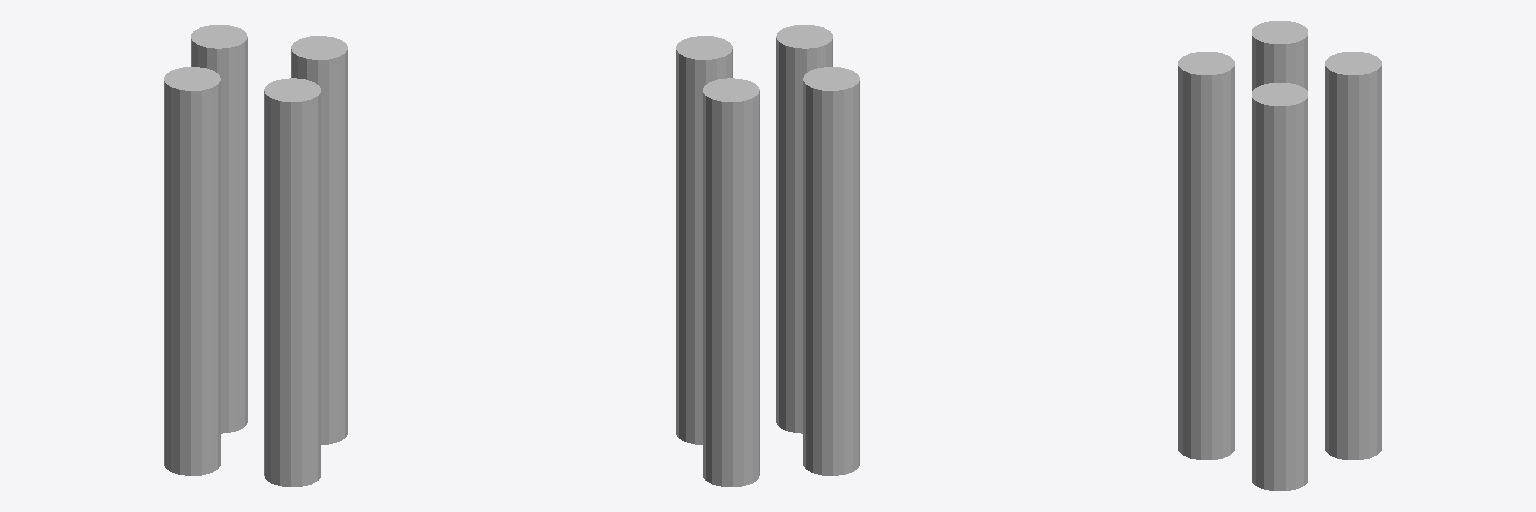
The model's file is fissionReactor_middle.obj.
3 renders of one model, left to right at view 1: azimuth 30°, elevation 25°; view 2: azimuth 150°, elevation 25°; view 3: azimuth 270°, elevation 25°, orthographic.
Visible parts, largest first — view 1: hexadecagon; view 2: hexadecagon; view 3: hexadecagon.
Part boxes in pixels (left/top/right/bottom): hexadecagon: left=164, top=25, right=347, bottom=486; hexadecagon: left=676, top=25, right=859, bottom=486; hexadecagon: left=1178, top=21, right=1381, bottom=490.
Size of the model in its own units: 6.43 by 13.44 by 6.43.